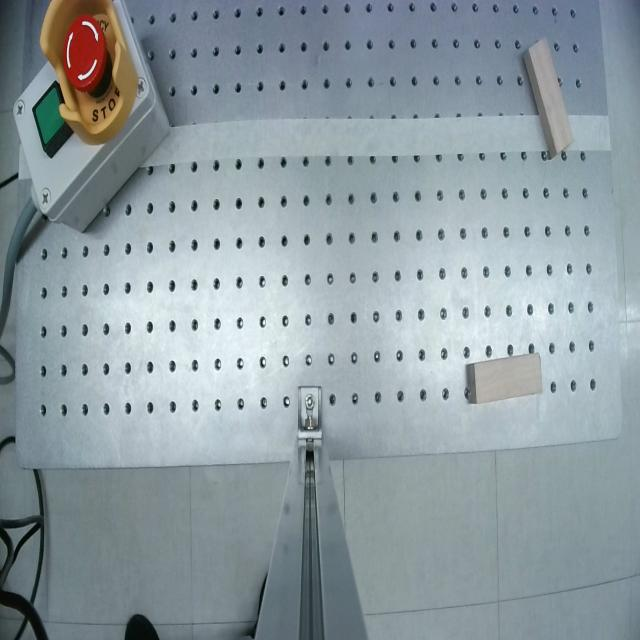wood: (526, 37, 576, 153), (470, 354, 545, 403)
